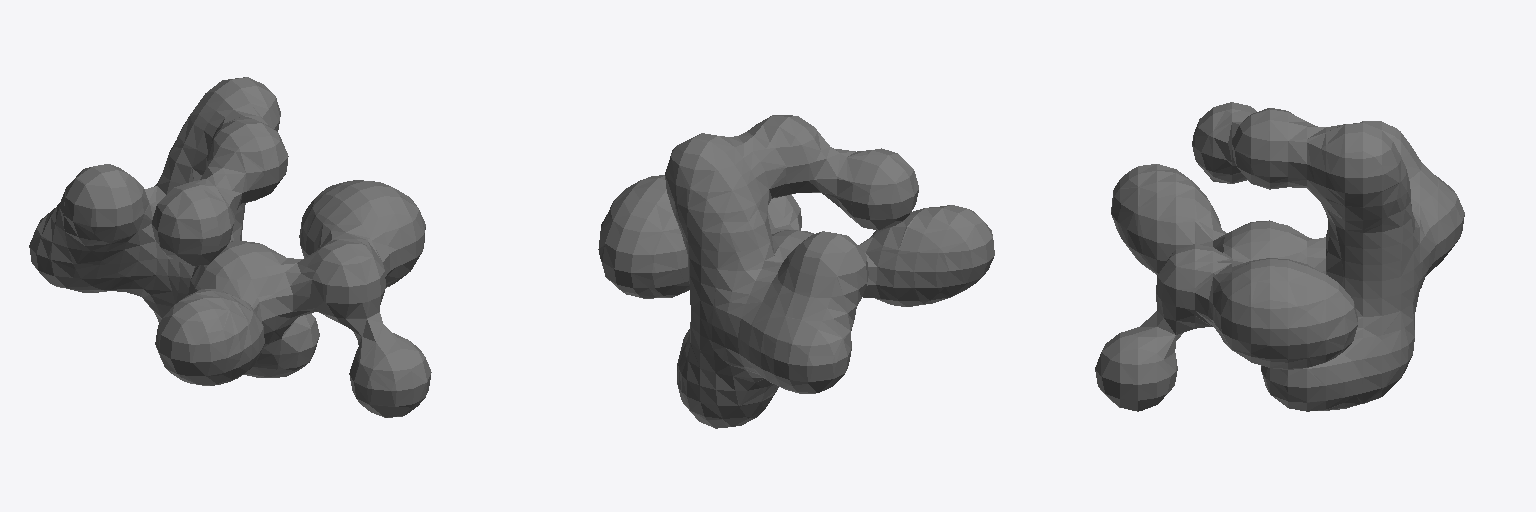
The model's file is emitterGeometry.obj.
The picture shows the model from 3 angles: view 1: azimuth 30°, elevation 25°; view 2: azimuth 150°, elevation 25°; view 3: azimuth 270°, elevation 25°; orthographic projection.
Parts seen in each view (by area): view 1: polySurface2; view 2: polySurface2; view 3: polySurface2.
Boxes of the visible parts, x1=… form: polySurface2: x1=29, y1=77, x2=431, y2=417; polySurface2: x1=598, y1=115, x2=994, y2=428; polySurface2: x1=1095, y1=102, x2=1464, y2=411.
Bounding box in the file's own units: 19.33 × 16.5 × 19.56.